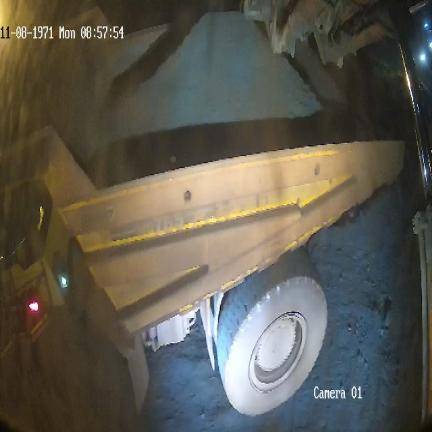pile: (118, 15, 320, 128)
